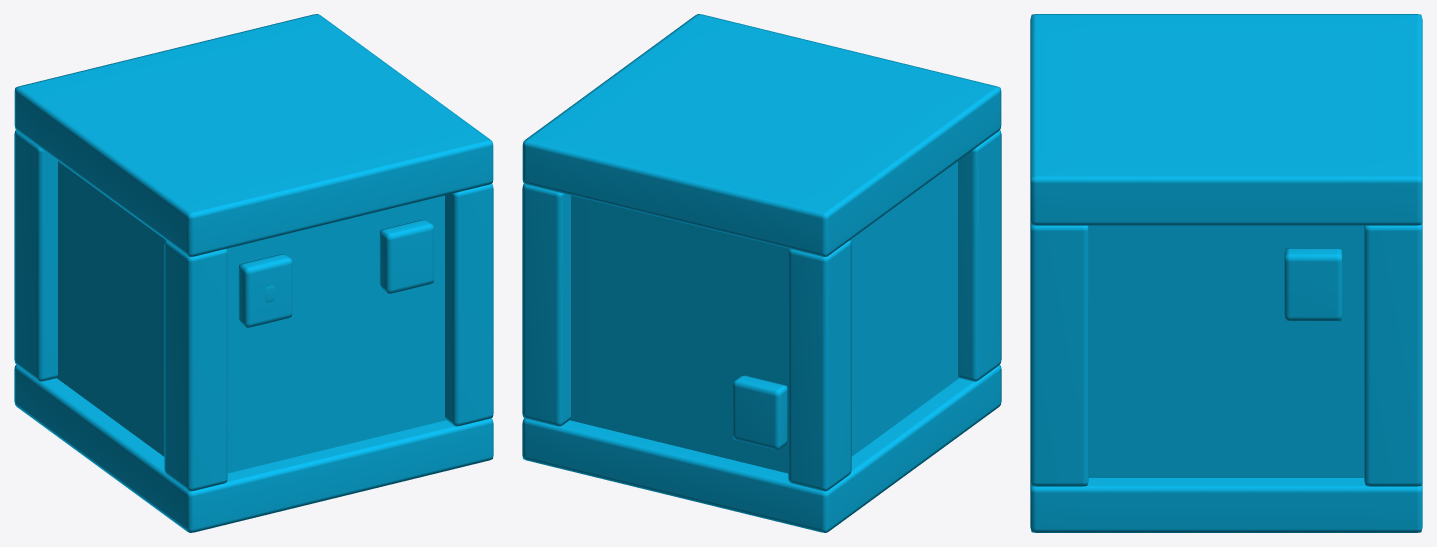
File: SM_Clay_Body_01.fbx
3 views of the same model, side by side, from view 1: azimuth 30°, elevation 25°; view 2: azimuth 150°, elevation 25°; view 3: azimuth 270°, elevation 25° (orthographic). The views are drawn at different scales.
Visible parts, largest first — view 1: SM_Clay_Body_01; view 2: SM_Clay_Body_01; view 3: SM_Clay_Body_01.
Boxes of the visible parts, x1,y1,x2,y2 form: SM_Clay_Body_01: [14, 14, 493, 532]; SM_Clay_Body_01: [522, 14, 1001, 532]; SM_Clay_Body_01: [1030, 14, 1422, 532].
Size of the model in its own units: 0.9958 by 0.9958 by 0.9958.
